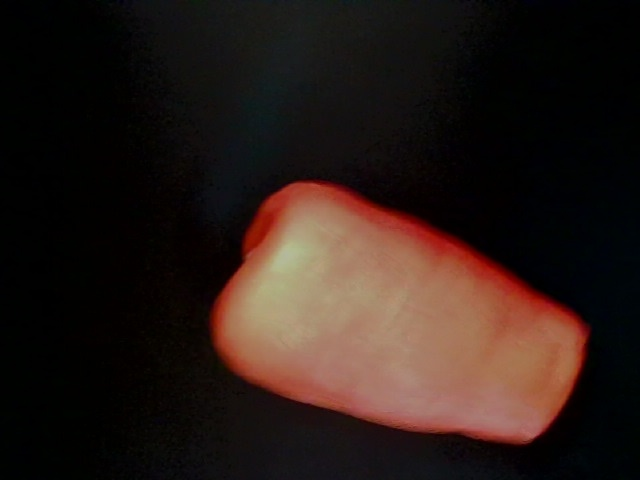YHLJ: (169, 88, 284, 153)
